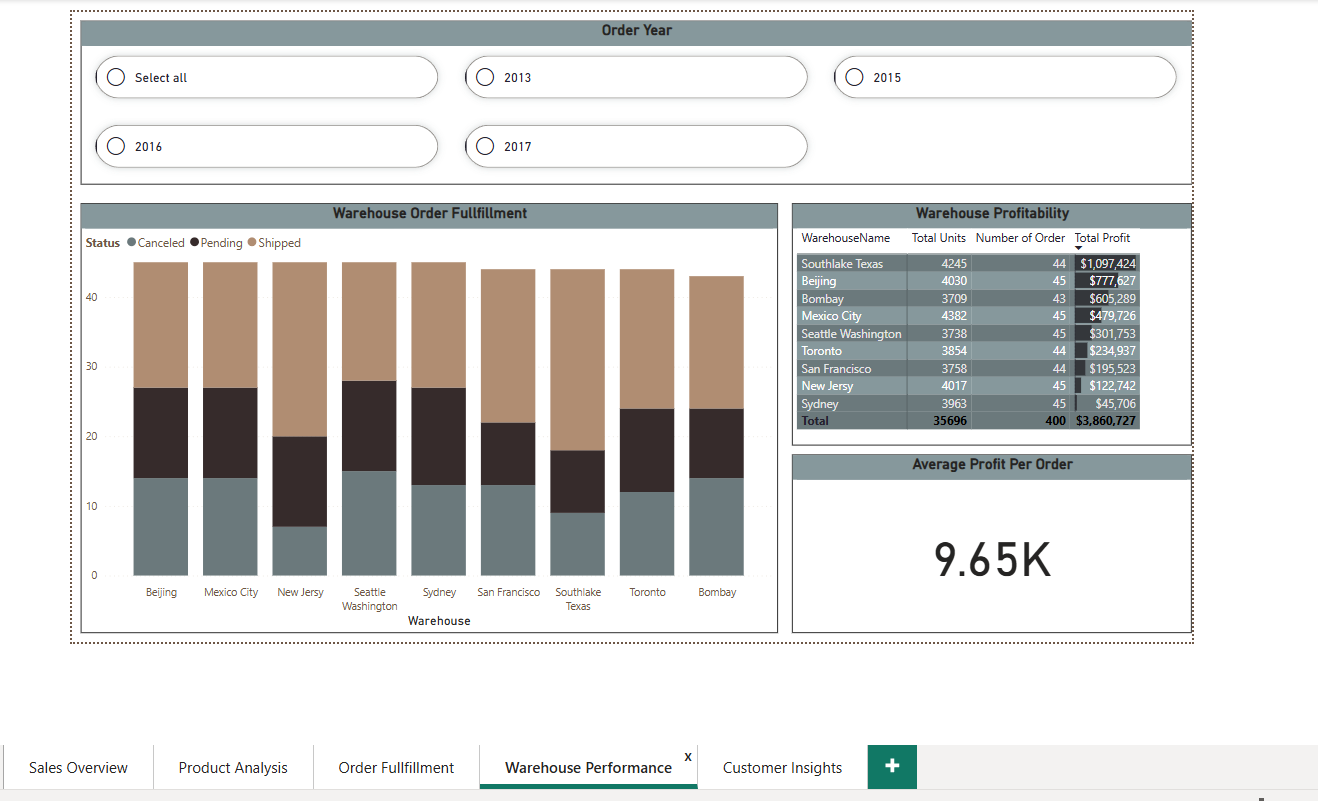

What the dashboard file says about the page in this screenshot:
{"tool":"powerbi","page":{"name":"Warehouse Performance","canvas":[1280,720],"ordinal":3},"visuals":[{"type":"columnChart","title":"Warehouse Order Fullfillment","fields":{"Category":["ML-Dataset.WarehouseName"],"Y":["ML-Dataset.Number of Order"],"Series":["ML-Dataset.Status"]},"box":[10,218.6,797.1,491.4],"z":0},{"type":"advancedSlicerVisual","fields":{"Values":["ML-Dataset.Order Year"]},"box":[10,10,1270,187.1],"z":2000},{"type":"pivotTable","title":"Warehouse Profitability","fields":{"Rows":["ML-Dataset.WarehouseName"],"Values":["ML-Dataset.Total Units","ML-Dataset.Number of Order","ML-Dataset.Total Profit"]},"box":[822.9,218.6,457.1,277.1],"z":2001},{"type":"card","title":"Average Profit Per Order","fields":{"Values":["ML-Dataset.AvgProfitPerOrder"]},"box":[822.9,505.7,457.1,204.3],"z":2002}]}

Visuals, with their boxes on the page's 1280x720 design canvas (x1, y1, x2, y2). These are canvas units, not pixel positions in the 1318x801 screenshot, which may show the page scaled, cropped or inside an application window:
"Warehouse Order Fullfillment" columnChart: detection(10, 219, 807, 710)
advancedSlicerVisual - ML-Dataset.Order Year: detection(10, 10, 1280, 197)
"Warehouse Profitability" pivotTable: detection(823, 219, 1280, 496)
"Average Profit Per Order" card: detection(823, 506, 1280, 710)
